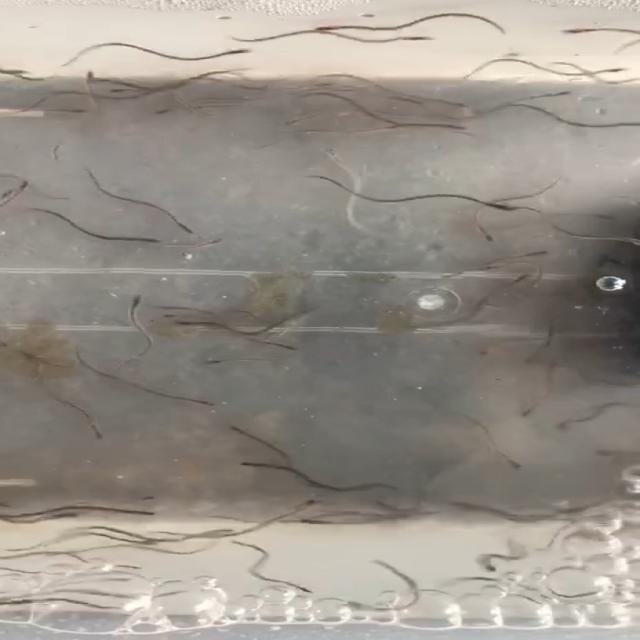active_glass_eel: (129, 232, 180, 257), (271, 342, 322, 365), (434, 121, 484, 141), (111, 287, 156, 309), (284, 495, 335, 514), (185, 394, 232, 414), (497, 454, 533, 479), (471, 201, 532, 215), (465, 558, 510, 576), (61, 105, 109, 121), (407, 32, 443, 53), (157, 222, 208, 236), (126, 507, 170, 523), (269, 582, 322, 595), (15, 171, 42, 196), (222, 454, 258, 472), (460, 233, 506, 247), (544, 86, 588, 100), (516, 245, 559, 259), (220, 44, 258, 58), (147, 105, 192, 116), (110, 85, 136, 104), (178, 314, 200, 336), (74, 67, 100, 84), (90, 431, 121, 444), (561, 22, 580, 42), (597, 64, 628, 76), (226, 419, 245, 438), (447, 99, 475, 110), (509, 270, 537, 280), (306, 22, 332, 32)
